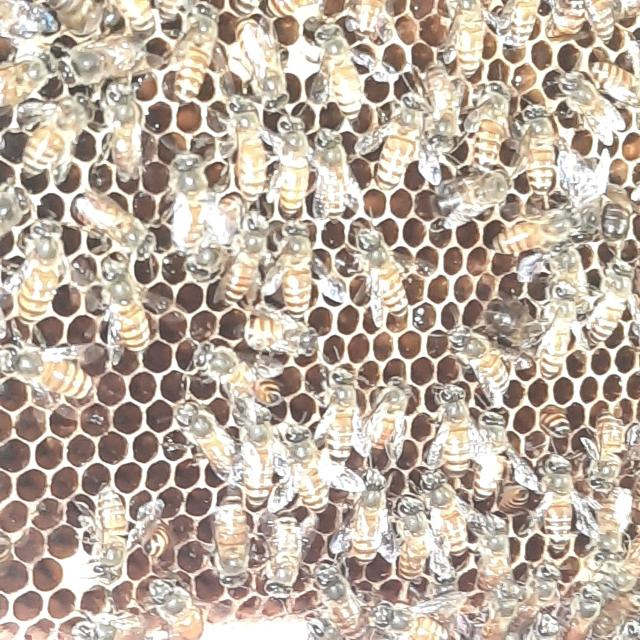honeybee: (66, 480, 138, 580), (1, 336, 98, 410), (440, 310, 517, 402), (165, 4, 229, 110), (7, 215, 67, 328), (160, 147, 217, 265), (69, 183, 160, 255), (355, 223, 422, 316), (558, 64, 620, 162), (99, 252, 154, 362), (227, 400, 286, 502), (530, 276, 580, 396), (224, 96, 275, 213), (20, 94, 93, 174), (586, 249, 640, 355), (230, 18, 296, 104), (416, 53, 464, 171), (491, 200, 586, 259), (202, 489, 256, 592), (103, 84, 154, 188), (58, 23, 143, 84), (179, 401, 239, 486), (464, 75, 516, 172), (146, 574, 221, 640), (226, 204, 271, 314), (310, 121, 356, 228), (235, 314, 318, 372), (376, 83, 418, 197), (364, 369, 411, 468), (250, 517, 306, 599), (518, 107, 562, 211), (309, 557, 364, 640), (185, 338, 253, 405), (314, 19, 364, 110), (276, 422, 328, 509), (276, 220, 322, 317), (538, 455, 582, 556), (316, 358, 360, 459), (434, 164, 526, 212), (424, 466, 470, 560), (434, 378, 474, 482), (273, 110, 310, 222), (447, 0, 494, 80), (584, 411, 627, 498), (593, 482, 638, 565), (0, 49, 60, 111), (472, 511, 518, 590), (349, 472, 388, 562), (129, 483, 172, 563), (372, 596, 450, 640), (474, 407, 506, 511), (340, 0, 415, 42), (395, 494, 428, 584), (601, 172, 640, 246), (0, 0, 60, 48), (476, 568, 516, 640), (70, 602, 143, 640), (565, 583, 605, 640), (502, 0, 543, 55), (576, 0, 622, 46), (0, 183, 30, 245), (526, 555, 563, 605), (536, 404, 576, 446), (548, 0, 588, 38), (252, 373, 286, 412), (503, 475, 530, 514), (532, 611, 564, 640), (302, 615, 335, 640)
